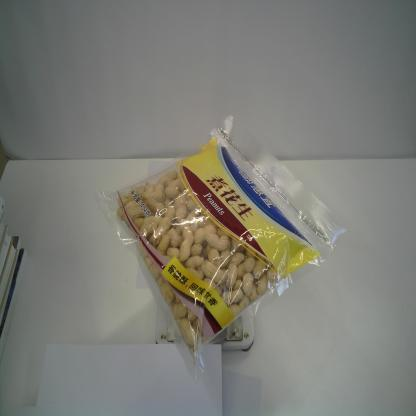Dried Food: (89, 109, 353, 383)
